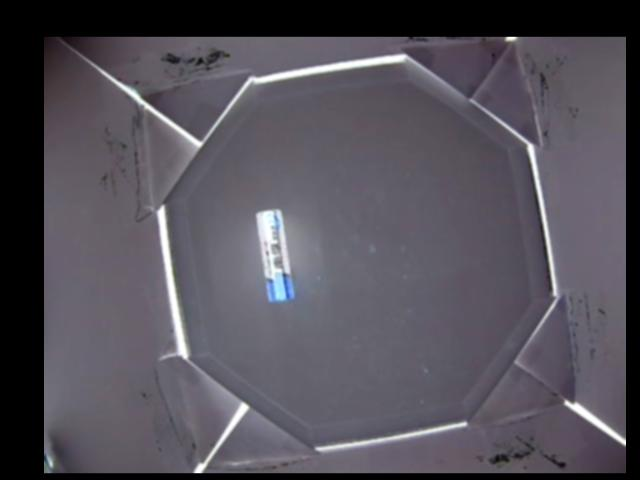Battery: (255, 210, 293, 304)
